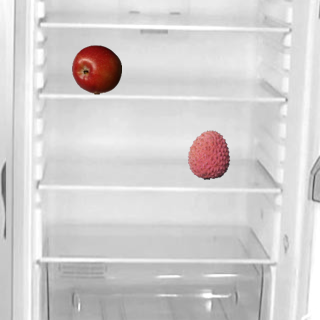Apple Braeburn: (71, 44, 121, 94)
Lychee: (183, 129, 233, 179)
